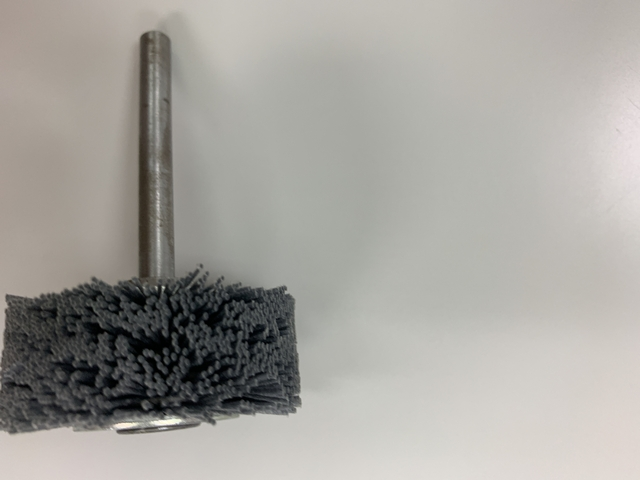Wheel Brush: (1, 27, 305, 440), (1, 208, 309, 432)
